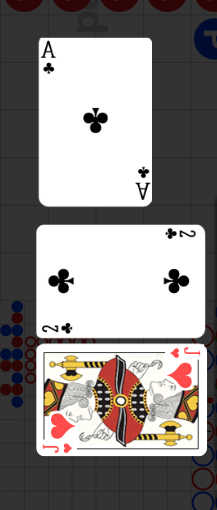2C: (41, 321, 75, 335)
AC: (41, 40, 59, 78)
JH: (42, 442, 74, 455)
